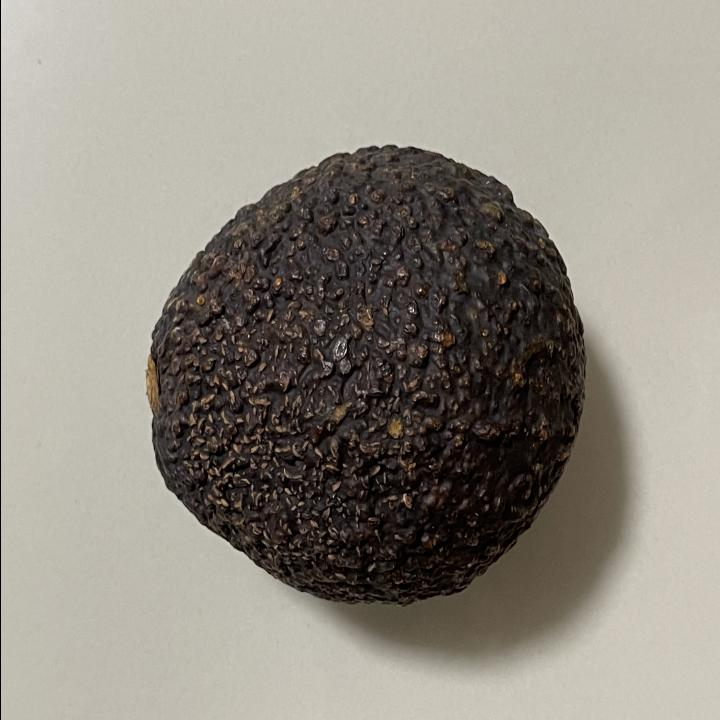Level3: (134, 132, 596, 618)
